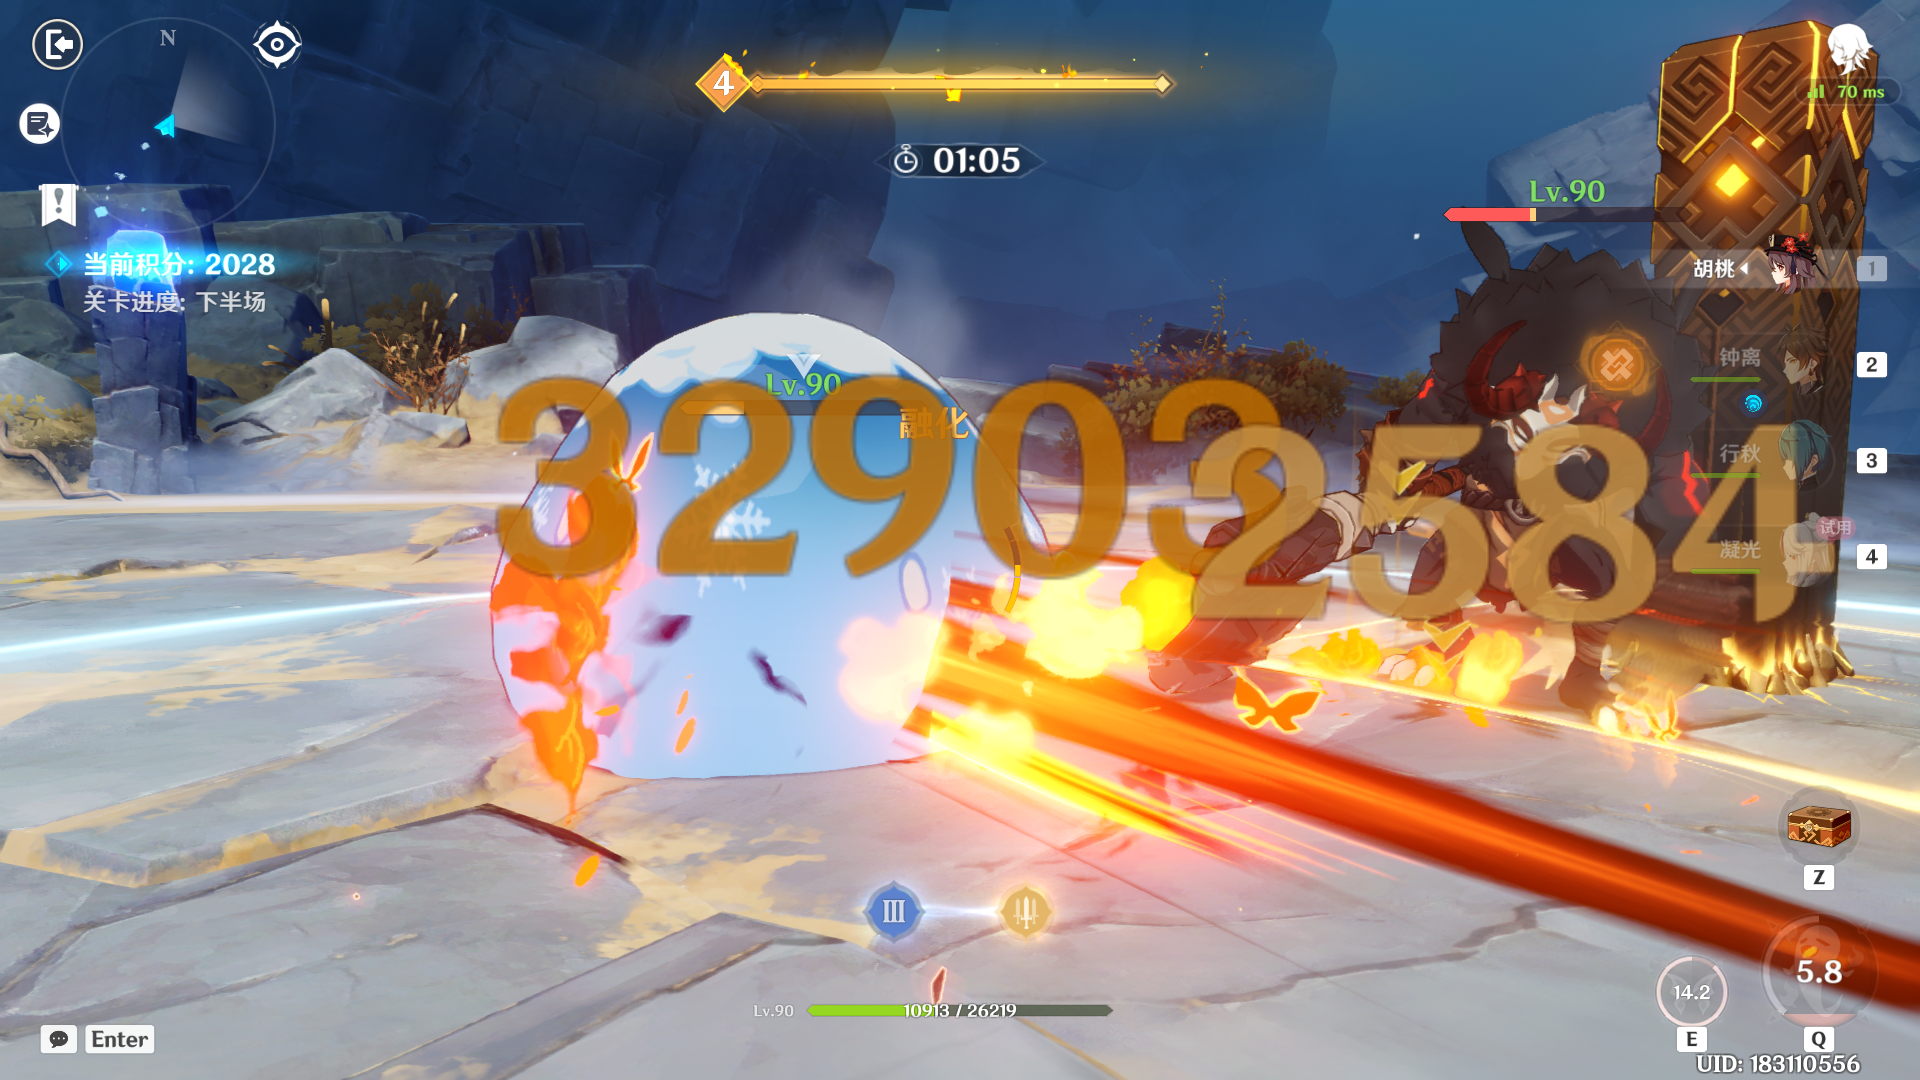bighili: (1191, 153, 1747, 806)
slime: (426, 291, 1108, 806)
